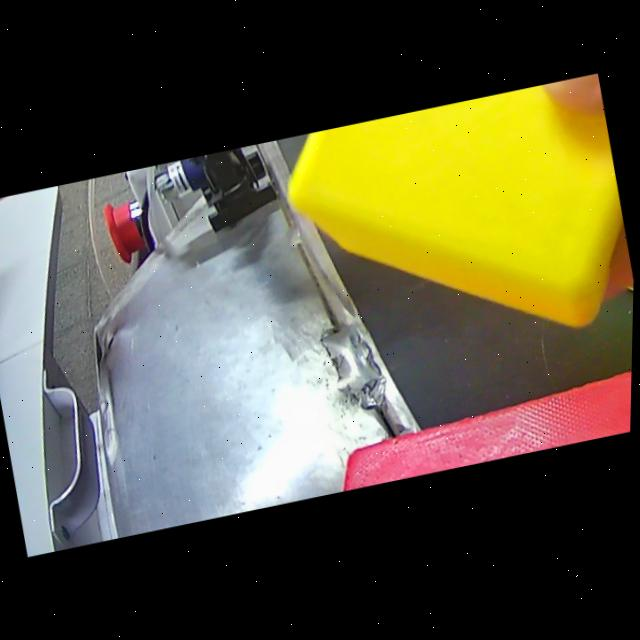greenBox: (569, 134, 638, 367)
redBox: (322, 361, 634, 494)
yellowBox: (272, 75, 639, 396)
